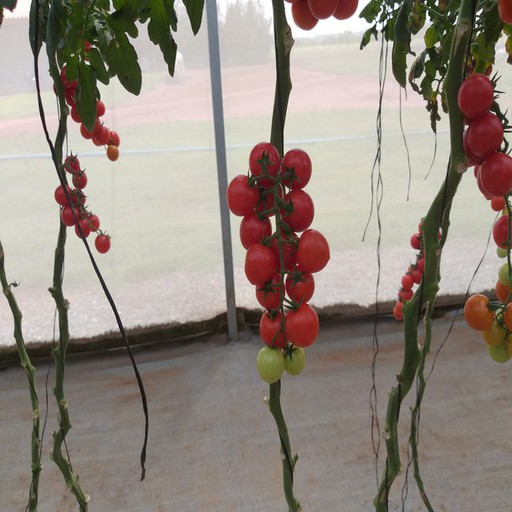green tomato bunch: (227, 143, 330, 383)
red tomato bunch: (458, 73, 512, 360), (54, 65, 120, 159), (394, 218, 445, 328), (55, 156, 112, 254)
